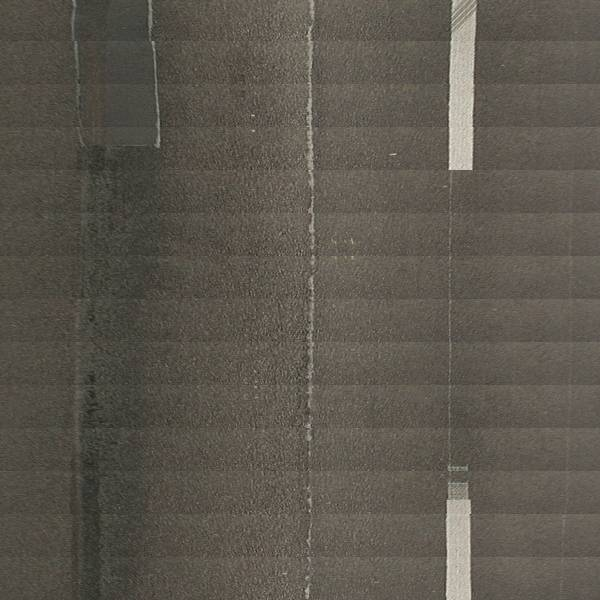road_damage: (67, 1, 168, 155), (71, 359, 114, 600), (302, 1, 318, 600)
